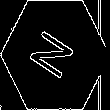N_SE: (27, 25, 83, 85)
